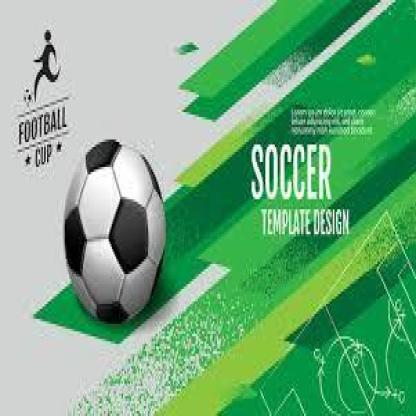ball: (64, 139, 168, 328)
